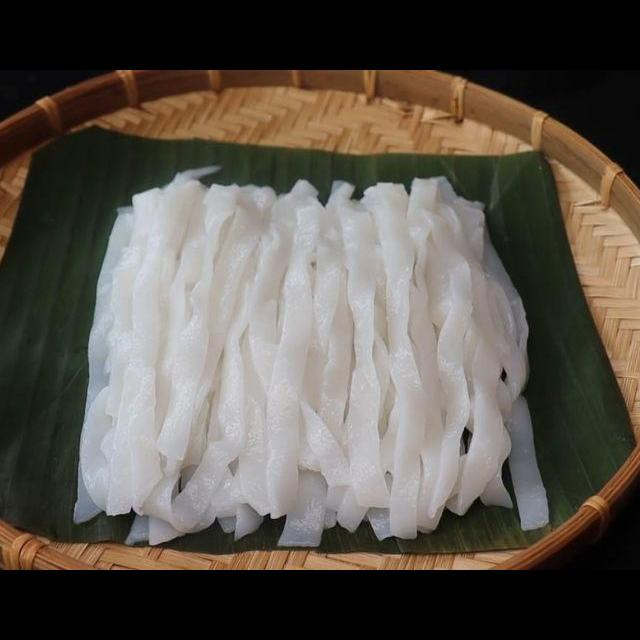banh pho: (63, 157, 554, 552)
